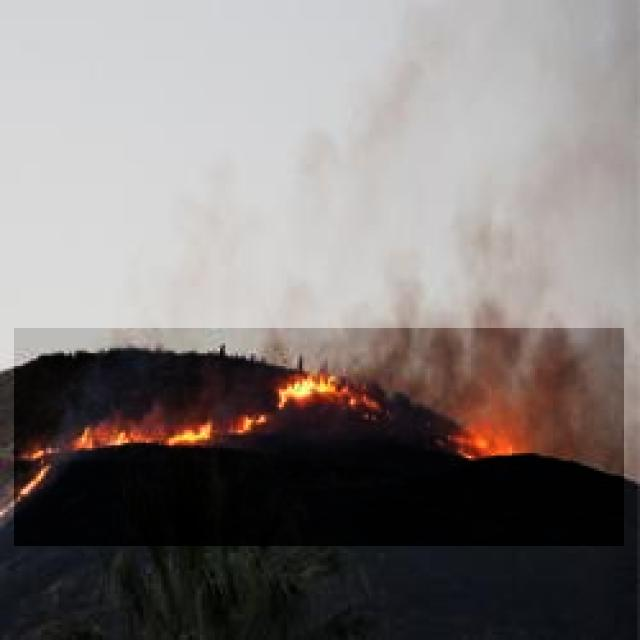Fire: (14, 328, 624, 546)
